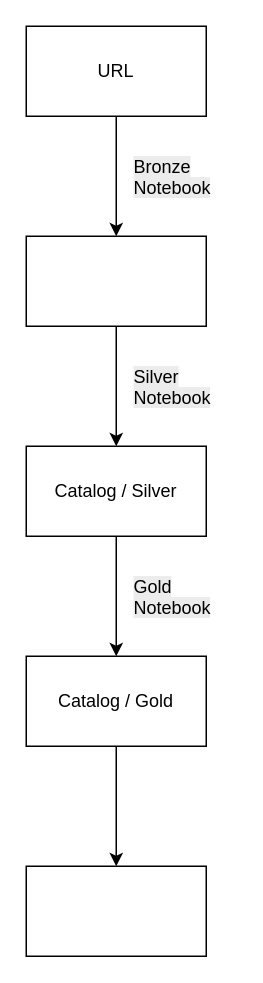
The diagram is 263 pixels wide and 983 high, and some of its shapes have lost their labels. The shapes that lost their labels are listed below. From the top down, each one's box as (x1, y1, x2, y2) in pixels, then its label:
(25, 235, 206, 326): Catalog / Bronze
(25, 865, 206, 956): Power BI
